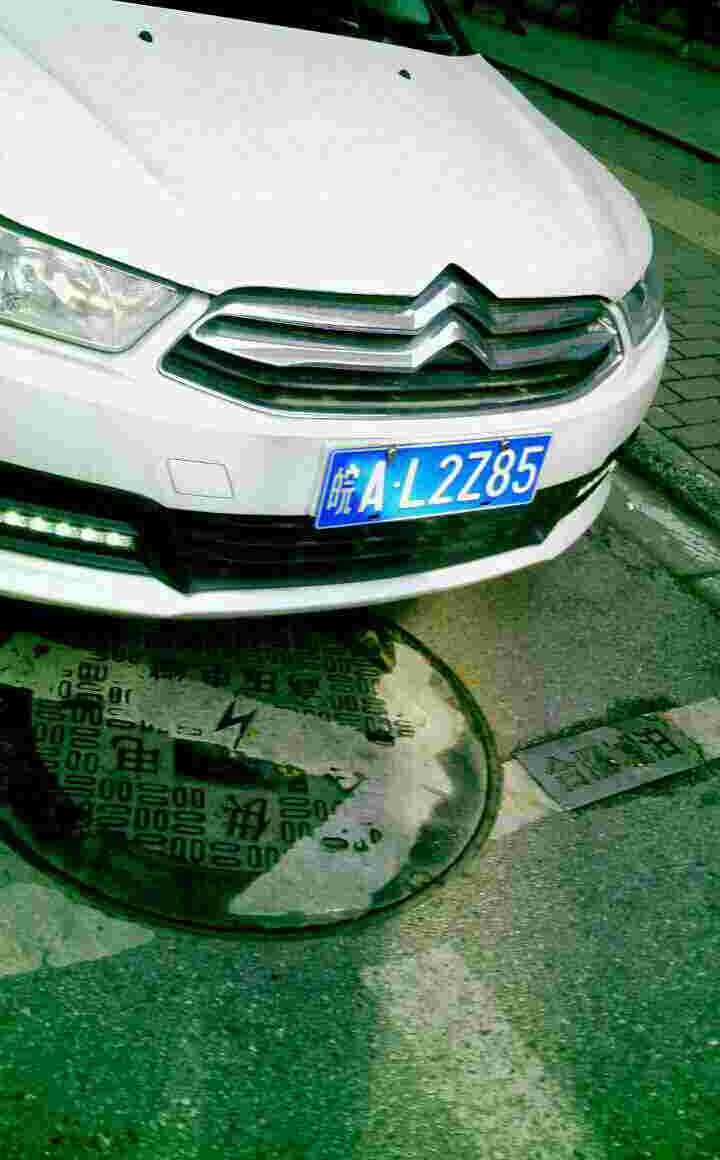license_plate: (324, 439, 557, 536)
